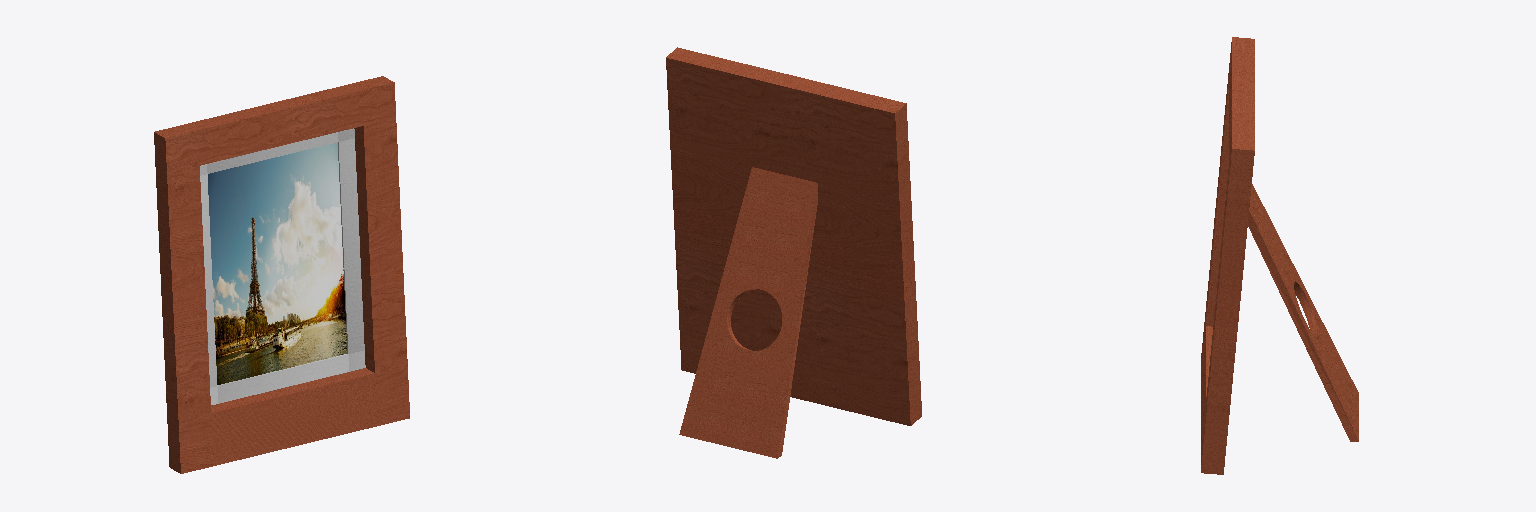
The picture shows the model from 3 angles: view 1: azimuth 30°, elevation 25°; view 2: azimuth 150°, elevation 25°; view 3: azimuth 270°, elevation 25°; orthographic projection.
Visible parts, largest first — view 1: PF_obj02; view 2: PF_obj02, PF_obj01; view 3: PF_obj02, PF_obj01.
Part boxes in pixels (bbox=[...]): PF_obj02: bbox=[154, 76, 409, 473]; PF_obj02: bbox=[666, 47, 921, 425]; PF_obj01: bbox=[679, 167, 817, 458]; PF_obj02: bbox=[1201, 37, 1254, 474]; PF_obj01: bbox=[1248, 184, 1358, 441].
Bounding box in the file's own units: 7 × 9.52 × 4.19.
3 materials, 3 textured.